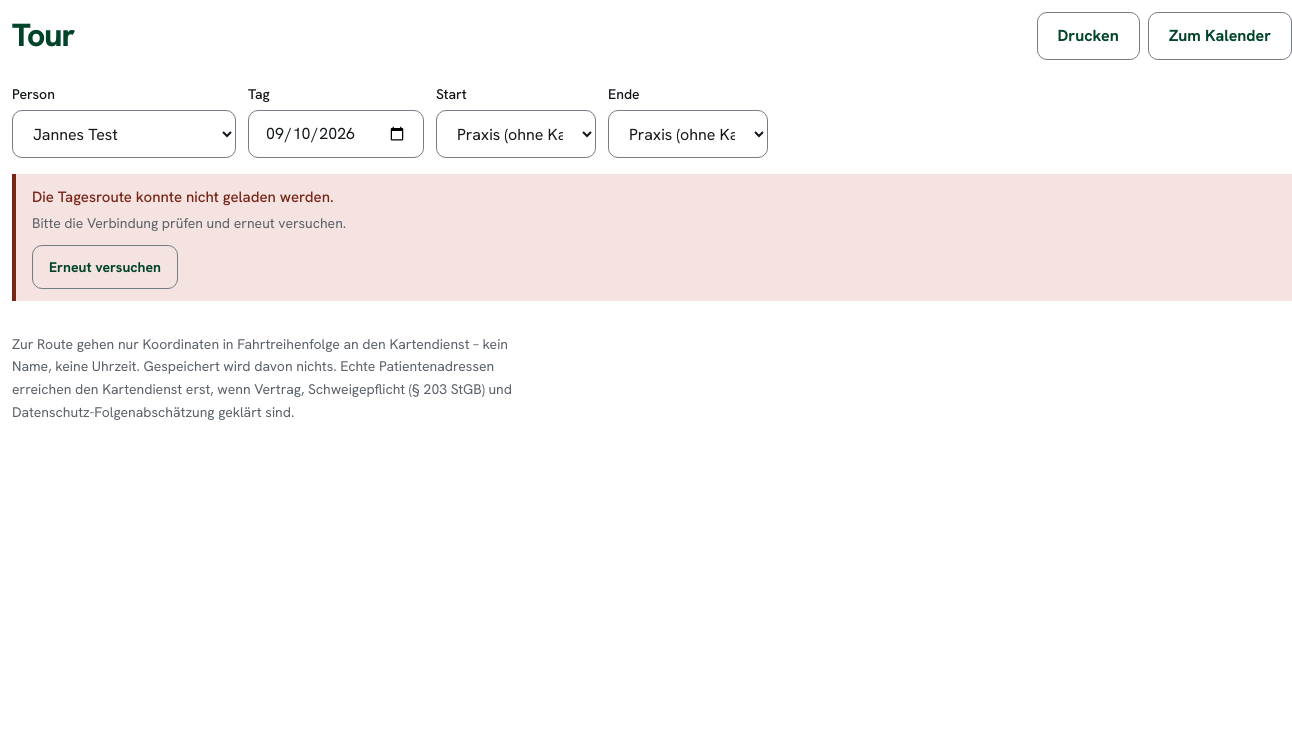
it: TourenPage nach dem UX-Review (UXR-003) › bietet nach einem Ladefehler „Erneut versuchen" an, ohne Ratefrage (WRT-01, ZST-04)
The image size is (1292, 732).
expect the message shows "Bitte die Verbindung prüfen und erneut versuchen.": met, box [32,214,346,232]
expect the message does not show "angemeldet": met, box [12,174,1291,300]
Click the button "Erneut versuchen".
click(105, 266)  # box [32,244,178,288]
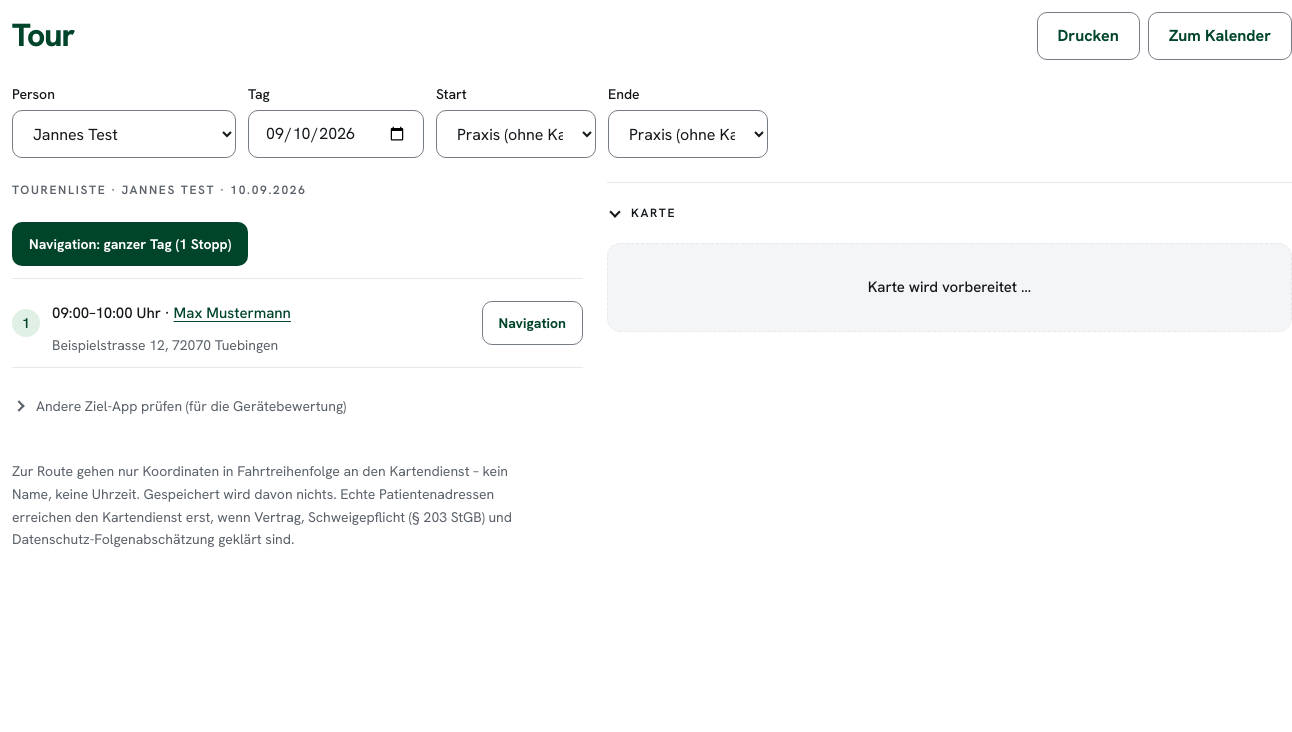
expect the link "Max Mustermann" is shown: met, box [174,303,291,323]
